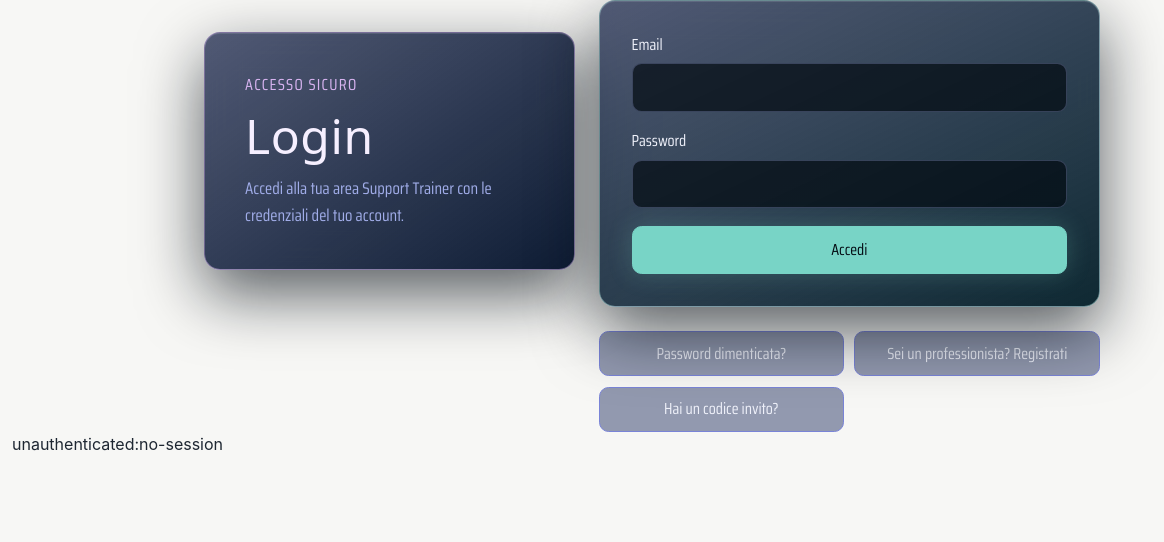
LoginPage errori del tentativo › cancella ACCOUNT_NOT_ACTIVE quando cambia una credenziale senza mutare la reason
In the field labelled "Email": (849,88) left=632, top=63, right=1067, bottom=112, type "User@Example.COM"
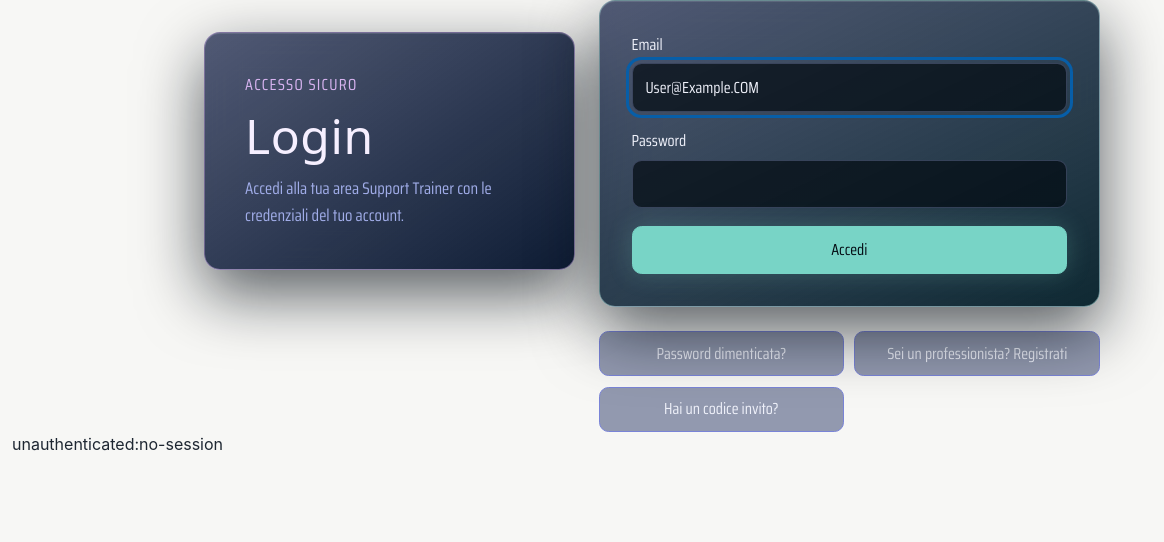
In the password field labelled "Password": (849,184) left=632, top=160, right=1067, bottom=208, type "Password sicura"
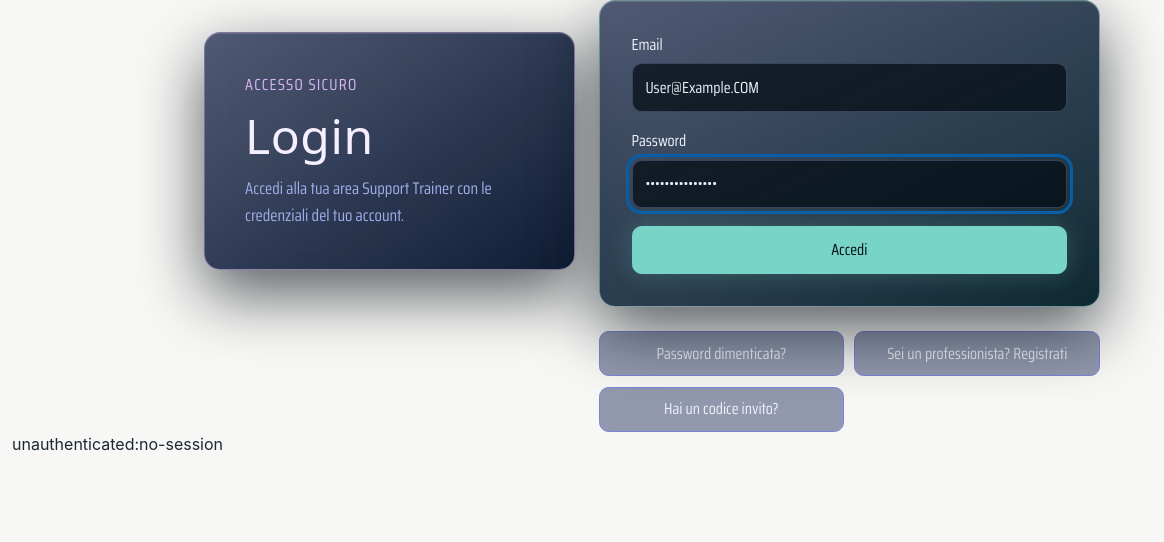
Click the button "Accedi": (849,250) left=632, top=226, right=1067, bottom=274
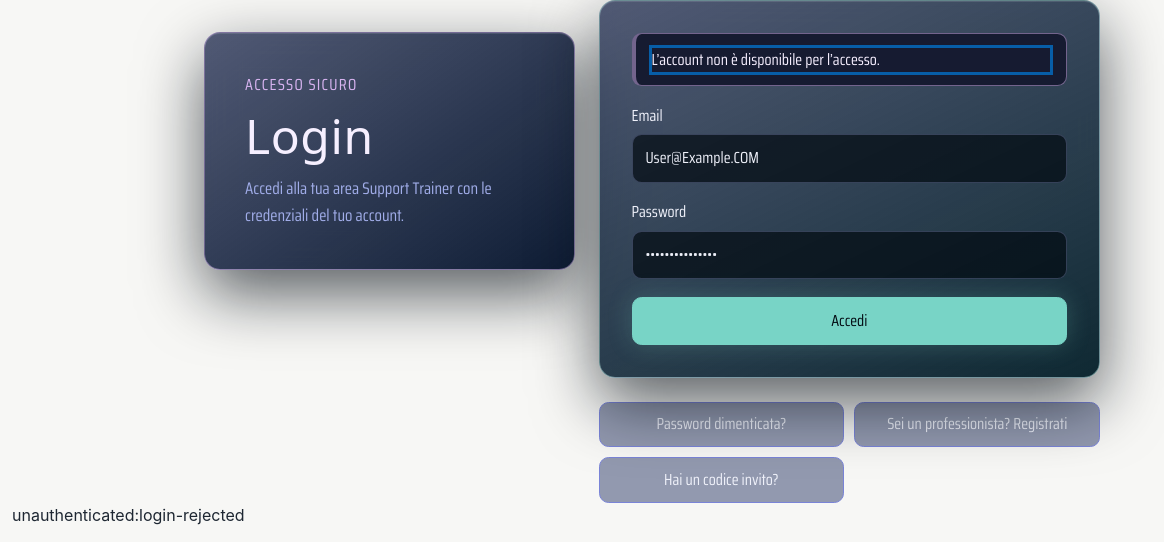
Check: the text "L’account non è disponibile per l’accesso." is shown, box left=652, top=47, right=880, bottom=72
Check: the text with test id "auth-state" reads "unauthenticated:login-rejected", box left=12, top=505, right=245, bottom=525
In the field labelled "Email": (849,158) left=632, top=134, right=1067, bottom=183, type "x"
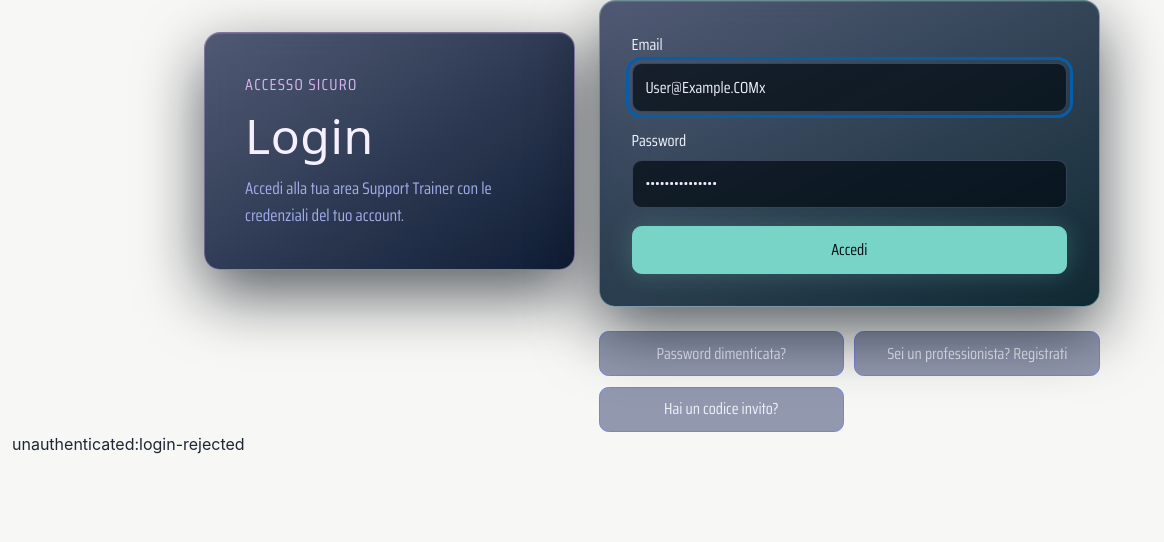
Check: the text with test id "auth-state" reads "unauthenticated:login-rejected", box left=12, top=434, right=245, bottom=454
Check: the text "L’account non è disponibile per l’accesso." is gone
